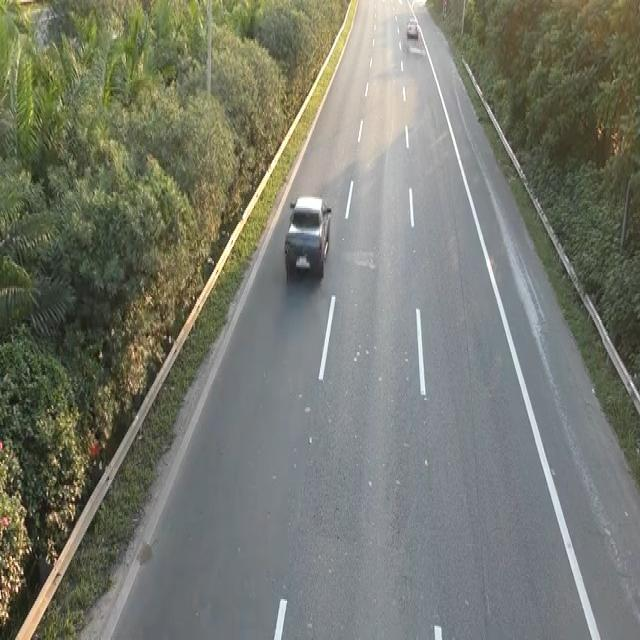car: (282, 192, 333, 283)
